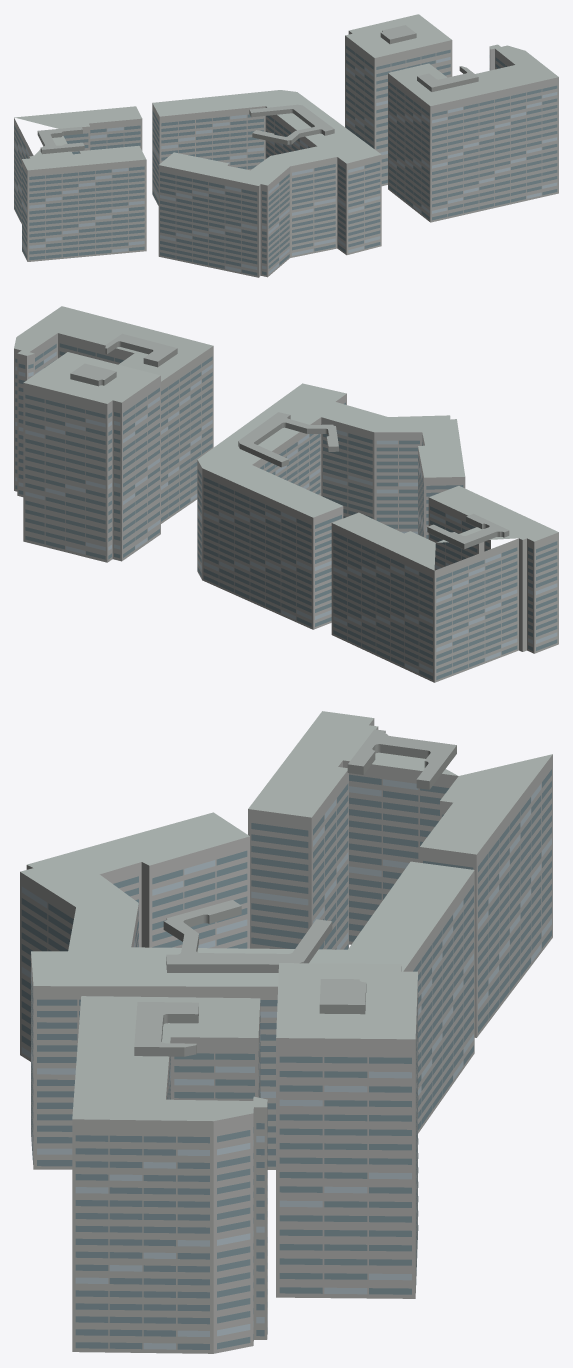
Rendered from apt-a11007001.glb.
3 renders of one model, top to bottom at view 1: azimuth 30°, elevation 25°; view 2: azimuth 150°, elevation 25°; view 3: azimuth 270°, elevation 25°, orthographic. The views are drawn at different scales.
Parts seen in each view (by area): view 1: apt-a11007001; view 2: apt-a11007001; view 3: apt-a11007001.
Boxes of the visible parts, x1,y1,x2,y2 form: apt-a11007001: (14, 14, 558, 277); apt-a11007001: (14, 306, 558, 682); apt-a11007001: (20, 711, 552, 1353).
Size of the model in its own units: 257 by 70 by 126.
